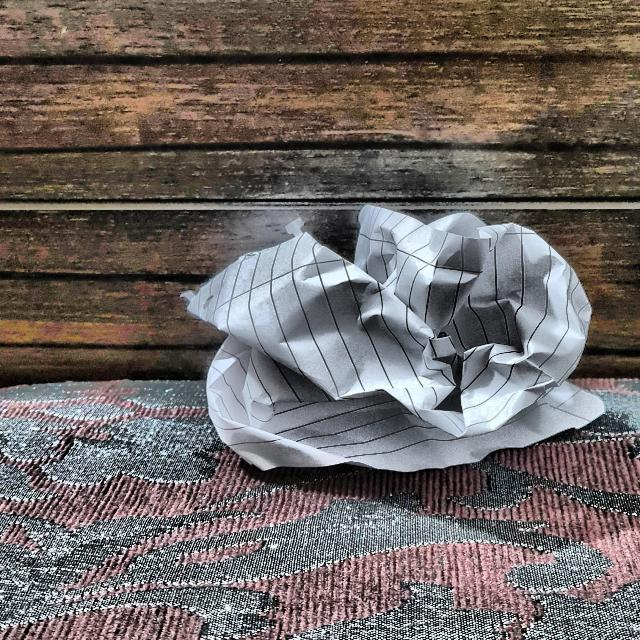paper: (180, 217, 622, 478)
